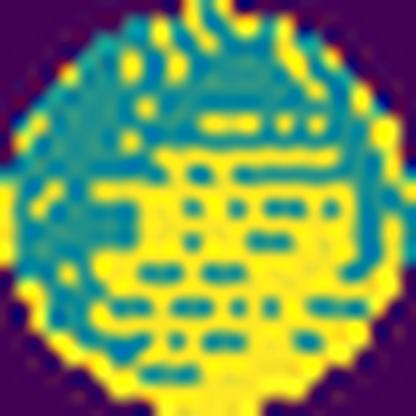Random: (0, 96, 415, 416)
